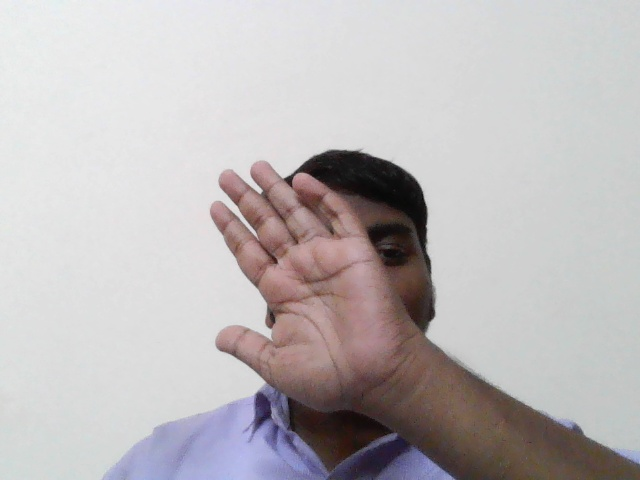Hello: (180, 154, 417, 436)
